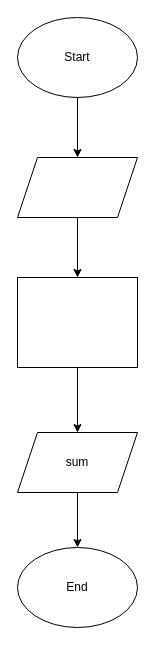
The diagram is 155 pixels wide and 645 high, and some of its shapes have lost their labels. The box of each missing label's shape, as (x1, y1, x2, y2) in pixels:
noA, noL, noC: (16, 156, 138, 218)
sum = 0 sum += noA* 2500 sum += noL* 3000 sum += noC* 3000: (16, 276, 138, 368)
